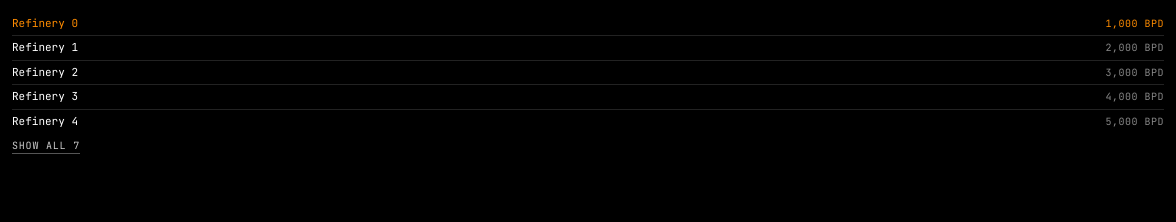
Scenario: AssetLinkList › shows the first few and expands in place
expect the number of list items is 5: met, box x1=12 y1=12 x2=1164 y2=36; x1=12 y1=36 x2=1164 y2=61; x1=12 y1=61 x2=1164 y2=85; x1=12 y1=85 x2=1164 y2=110; x1=12 y1=110 x2=1164 y2=133
Step 1. Click the button "SHOW ALL 7" → coordinates (46, 146), box x1=12 y1=139 x2=80 y2=154
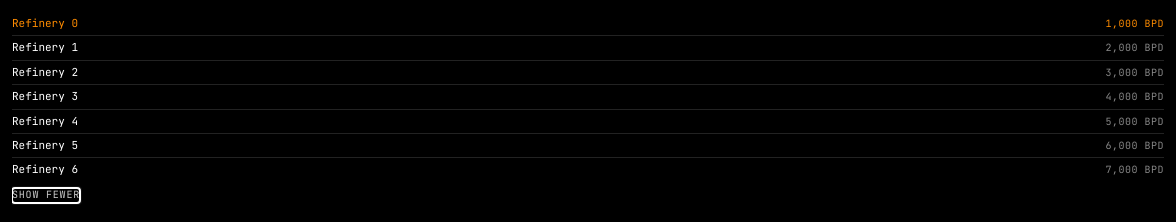
expect the number of list items is 7: met
Step 2. Click the button "SHOW FEWER" → coordinates (46, 195), box x1=12 y1=188 x2=80 y2=203
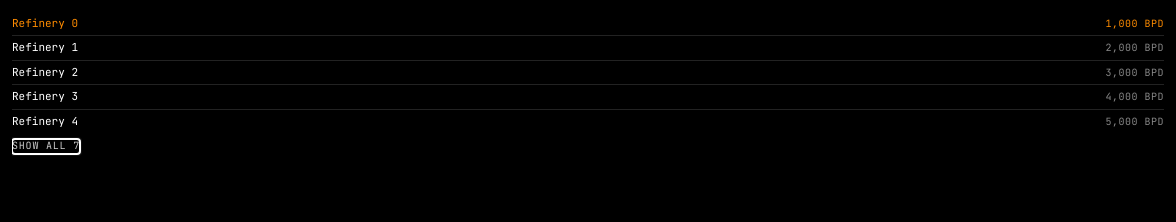
expect the number of list items is 5: met, box x1=12 y1=12 x2=1164 y2=36; x1=12 y1=36 x2=1164 y2=61; x1=12 y1=61 x2=1164 y2=85; x1=12 y1=85 x2=1164 y2=110; x1=12 y1=110 x2=1164 y2=133
